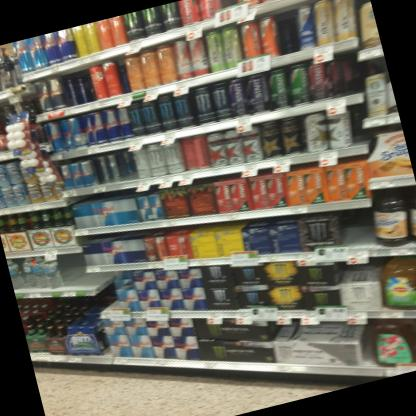empty_space: (57, 248, 95, 300), (340, 208, 376, 258)
